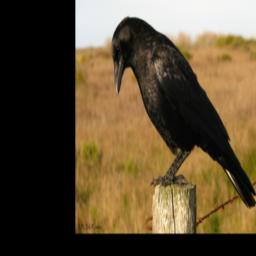Crow: (111, 16, 256, 209)
